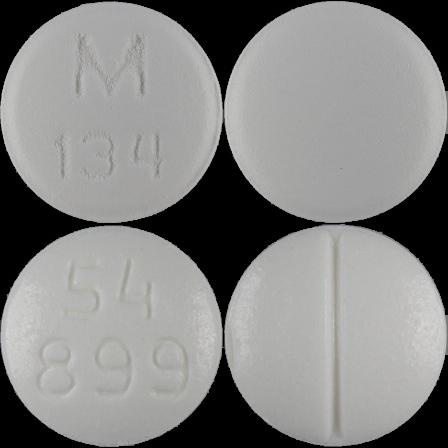55289-328: (0, 0, 224, 224)
